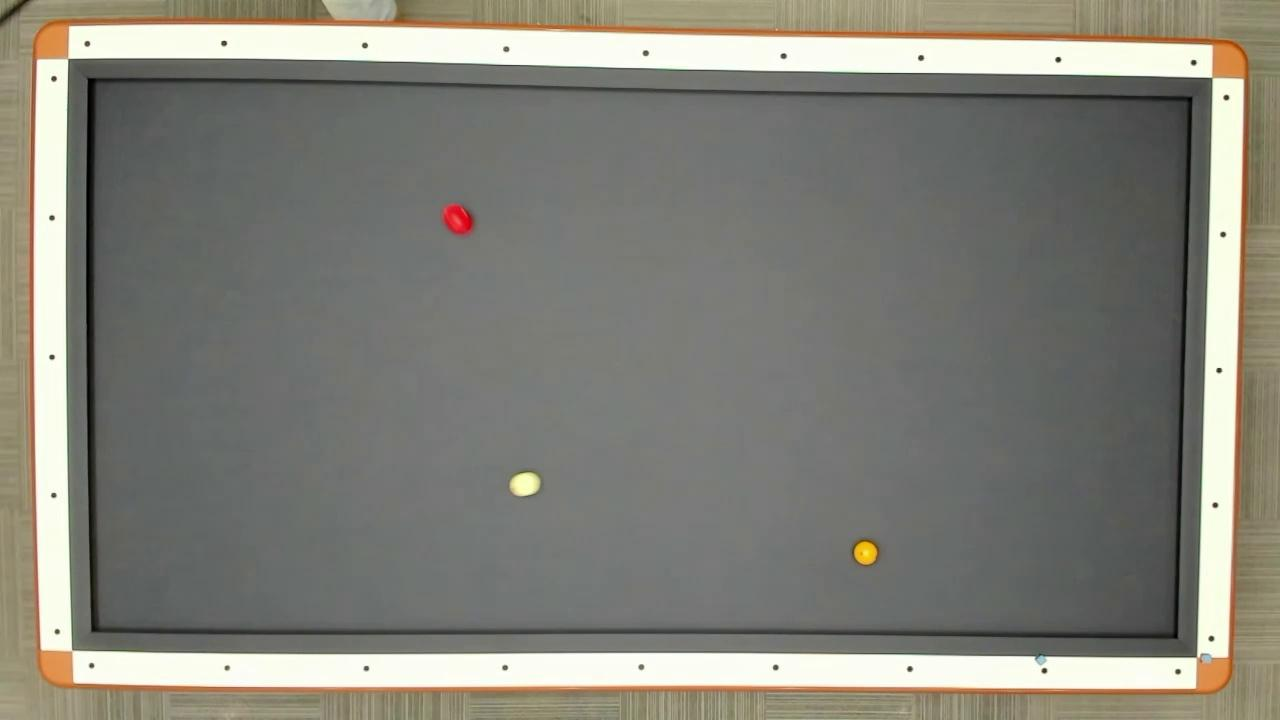Red: (438, 199, 474, 238)
White: (506, 469, 544, 498)
Yellow: (850, 540, 879, 570)
